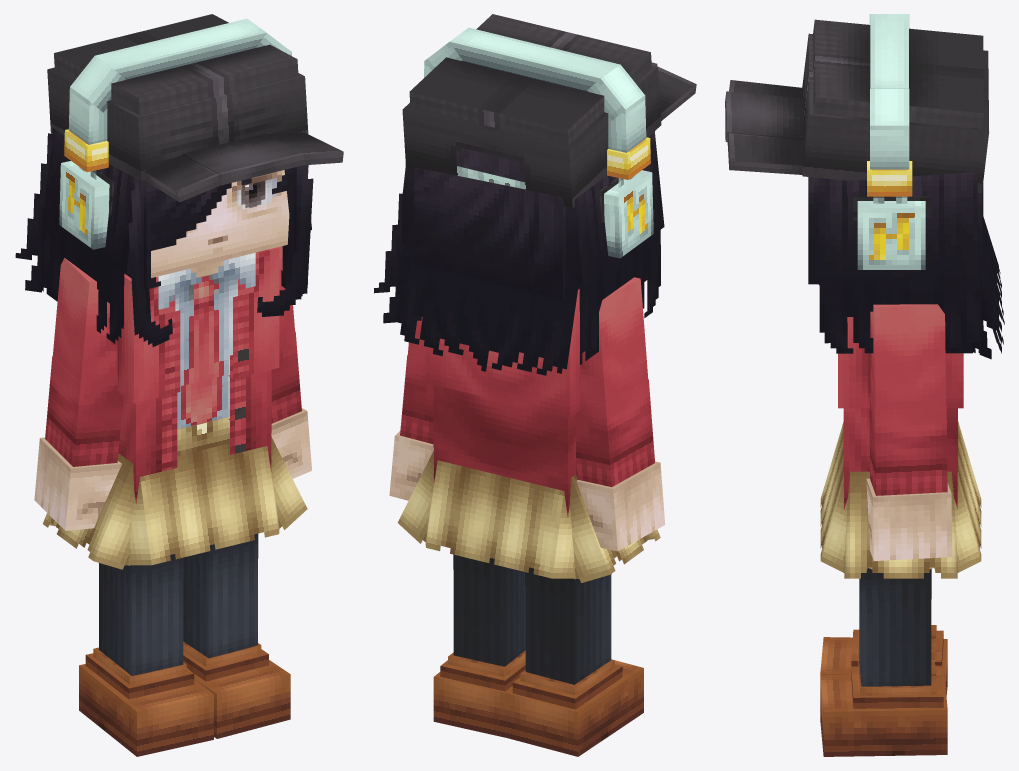
The picture shows the model from 3 angles, left to right: view 1: azimuth 30°, elevation 25°; view 2: azimuth 150°, elevation 25°; view 3: azimuth 270°, elevation 25°; orthographic projection.
Parts seen in each view (by area): view 1: ChestPart.mesh (×2), L-Boot.mesh (×2), Front_Cloth_1.mesh, MainHat.mesh, R-ArmCostume.mesh (×2), BellyCostume.mesh (×3), HatTop.mesh, R-Pants2.mesh, HatRim.mesh (×3), L-Pants2.mesh, Face.mesh, FrontStrand.mesh (×2) (+20 smaller); view 2: HairBase.mesh, Back.mesh, HatTop.mesh, R-ArmCostume.mesh (×2), MainHat.mesh, Back_Cloth_1.mesh, BellyCostume.mesh (×2), L-Boot.mesh (×2), R-Pants2.mesh, ChestPart.mesh, L-Pants2.mesh, MainBand.mesh (+18 smaller); view 3: L-ArmCostume.mesh (×2), HatTop.mesh, SIde.mesh, MainHat.mesh, L-Boot.mesh (×2), SideLong.mesh, HatRim.mesh (×3), L-Pants2.mesh, L-Hand.mesh, Headphone.mesh, Band.mesh (×3), L_Side_Cloth_1.mesh (+14 smaller).
Boxes of the visible parts, x1,y1,x2,y2 form: ChestPart.mesh (×2): (117, 247, 279, 402); L-Boot.mesh (×2): (79, 660, 290, 756); Front_Cloth_1.mesh: (140, 443, 278, 564); MainHat.mesh: (47, 67, 308, 181); R-ArmCostume.mesh (×2): (45, 258, 122, 466); BellyCostume.mesh (×3): (118, 355, 271, 503); HatTop.mesh: (54, 14, 298, 115); R-Pants2.mesh: (99, 564, 183, 675); HatRim.mesh (×3): (144, 132, 343, 202); L-Pants2.mesh: (183, 557, 257, 658); Face.mesh: (151, 170, 289, 277); FrontStrand.mesh (×2): (128, 165, 313, 346); HairBase.mesh: (414, 147, 579, 300); Back.mesh: (396, 244, 578, 375); HatTop.mesh: (409, 14, 651, 145); R-ArmCostume.mesh (×2): (576, 277, 654, 486); MainHat.mesh: (402, 65, 661, 207); Back_Cloth_1.mesh: (426, 460, 563, 578); BellyCostume.mesh (×2): (433, 384, 575, 517); L-Boot.mesh (×2): (433, 660, 643, 756); R-Pants2.mesh: (525, 575, 611, 684); ChestPart.mesh: (425, 289, 580, 417); L-Pants2.mesh: (453, 569, 525, 666); MainBand.mesh: (449, 27, 619, 91); L-ArmCostume.mesh (×2): (869, 304, 947, 495); HatTop.mesh: (812, 19, 983, 129); SIde.mesh: (814, 128, 977, 277); MainHat.mesh: (802, 33, 989, 193); L-Boot.mesh (×2): (820, 637, 947, 756); SideLong.mesh: (819, 270, 983, 353); HatRim.mesh (×3): (725, 80, 803, 174); L-Pants2.mesh: (859, 582, 931, 686); L-Hand.mesh: (866, 478, 952, 560); Headphone.mesh: (857, 201, 925, 269); Band.mesh (×3): (867, 88, 912, 196); L_Side_Cloth_1.mesh: (850, 471, 951, 578).
Bounding box in the file's own units: 3.15 × 8.16 × 3.1.
Materials: 2 (2 with a texture image).
